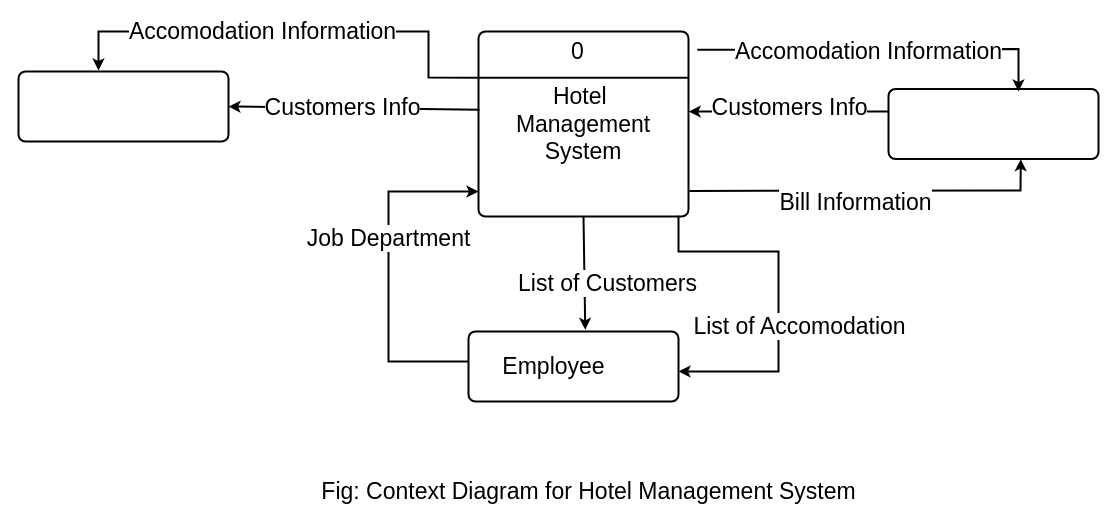
This 1116x529 diagram has some shape labels left out. Each missing label, with the centre of its shape:
Customers: [993,124]
Hotel Administrator: [123,106]
